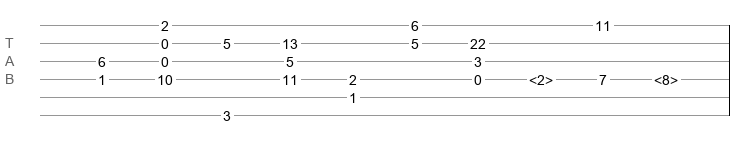0: (161, 36, 169, 46), (161, 54, 169, 64), (474, 72, 482, 82)
1: (98, 72, 106, 82), (349, 90, 357, 100)
10: (157, 72, 173, 82)
11: (282, 72, 298, 82), (595, 18, 611, 28)
13: (282, 36, 298, 46)
2: (161, 18, 169, 28), (349, 72, 357, 82)
22: (470, 36, 486, 46)
3: (223, 108, 231, 118), (474, 54, 482, 64)
5: (223, 36, 231, 46), (286, 54, 294, 64), (411, 36, 419, 46)
6: (98, 54, 106, 64), (411, 18, 419, 28)
7: (599, 72, 607, 82)
harmonic: (529, 72, 553, 82), (654, 72, 678, 82)
